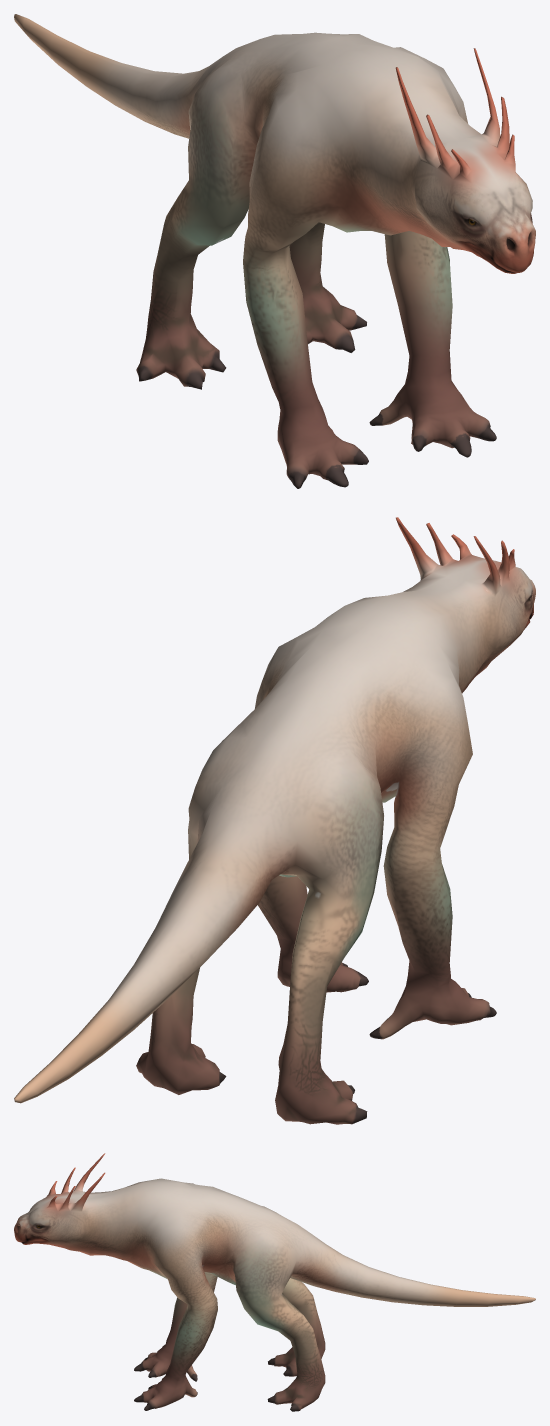
3 renders of one model, top to bottom at view 1: azimuth 30°, elevation 25°; view 2: azimuth 150°, elevation 25°; view 3: azimuth 270°, elevation 25°, orthographic. The views are drawn at different scales.
Parts seen in each view (by area): view 1: Plane_2 uvmapeado; view 2: Plane_2 uvmapeado; view 3: Plane_2 uvmapeado.
Part boxes in pixels (x1,y1,x2,y2): Plane_2 uvmapeado: (14, 14, 535, 488); Plane_2 uvmapeado: (14, 517, 535, 1124); Plane_2 uvmapeado: (14, 1153, 535, 1411).
Size of the model in its own units: 1.94 by 3.59 by 7.53.
Materials: 1 (1 with a texture image).
